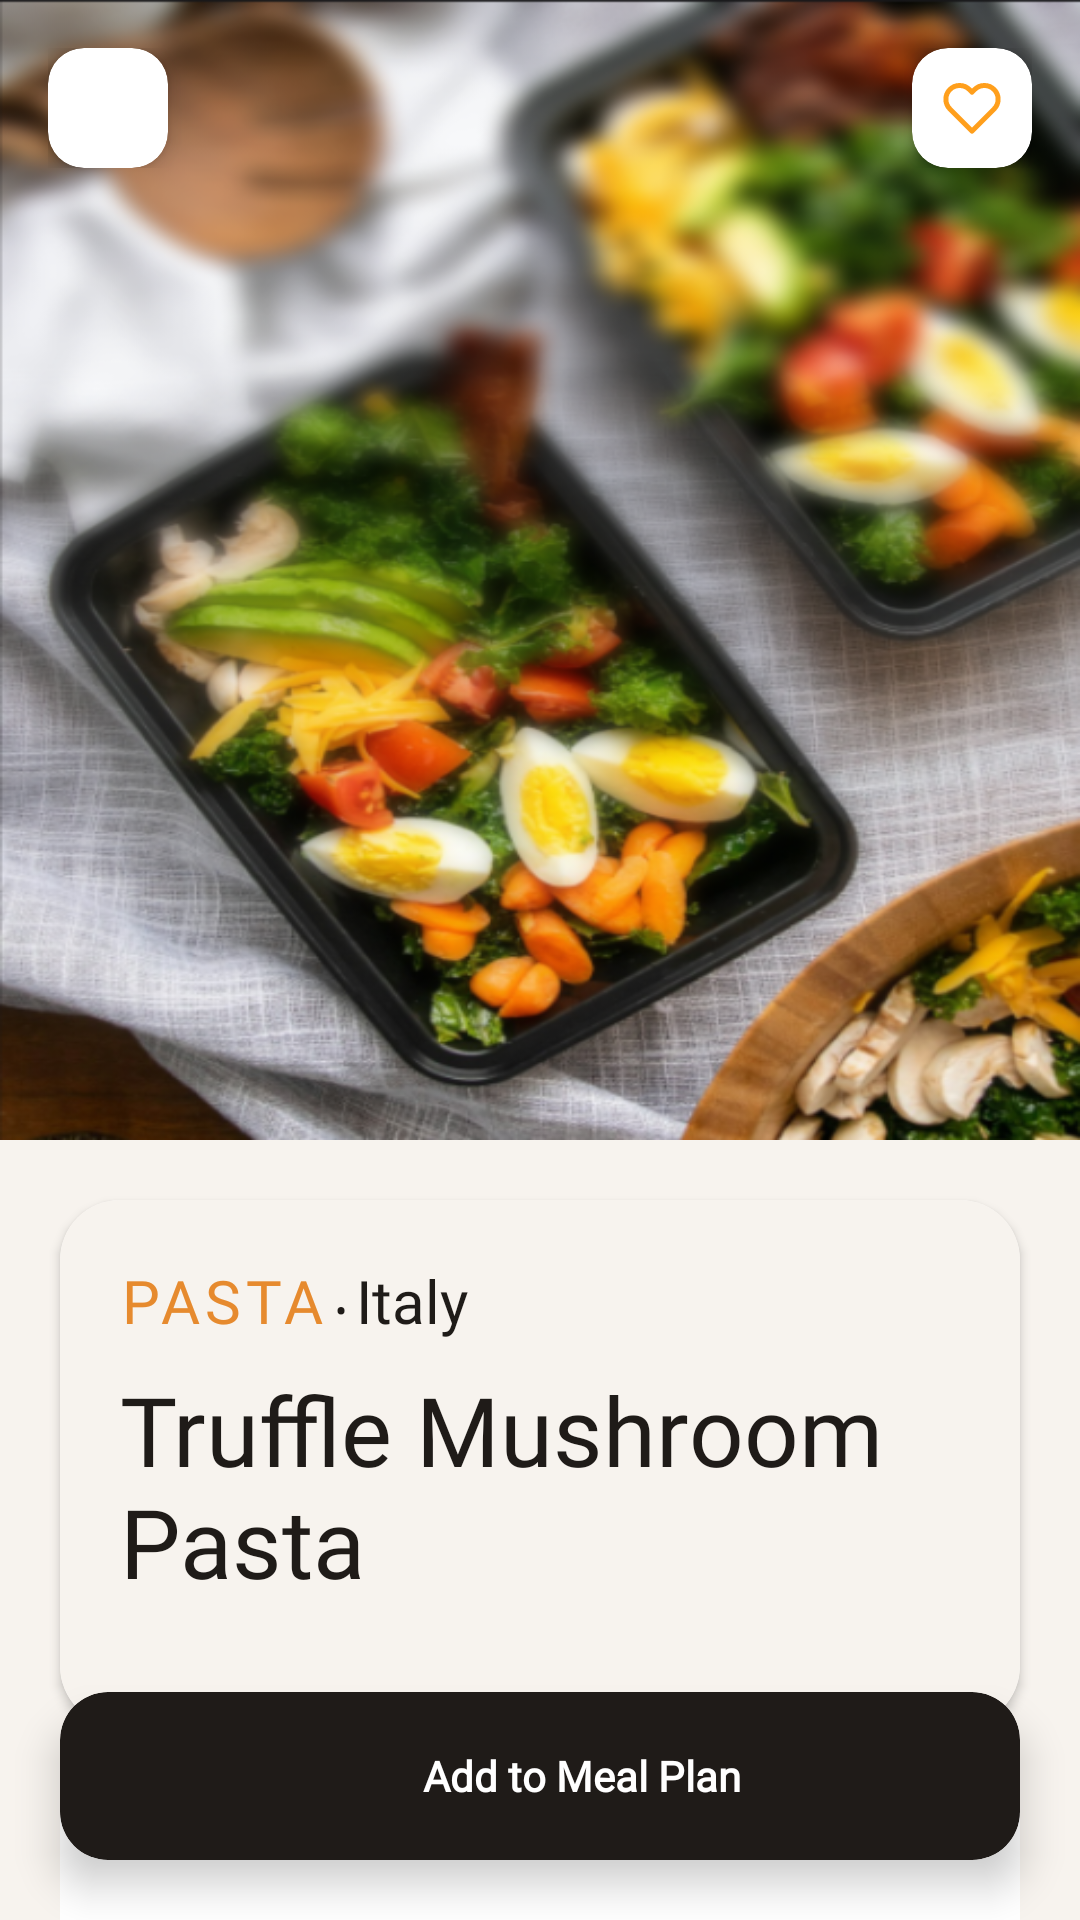

Screen size 1080 × 1920. Icon name, then its box in pixels as (x1, y1, x2, y2):
heart: (943, 83, 1001, 134)
